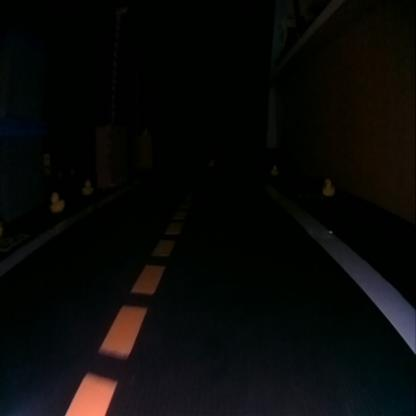Duckie: (49, 192, 64, 212), (322, 179, 336, 195), (81, 179, 93, 194), (270, 164, 278, 175)
